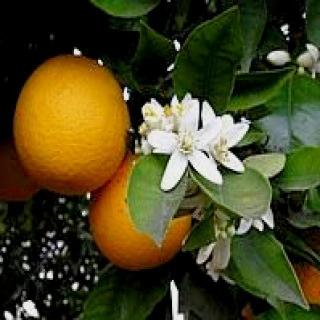orange: (15, 40, 135, 214), (84, 138, 211, 298)
